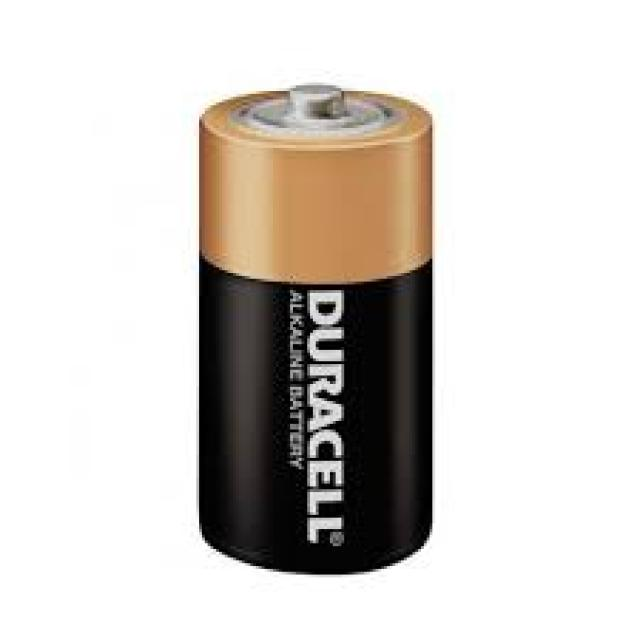battery: (158, 88, 481, 582)
